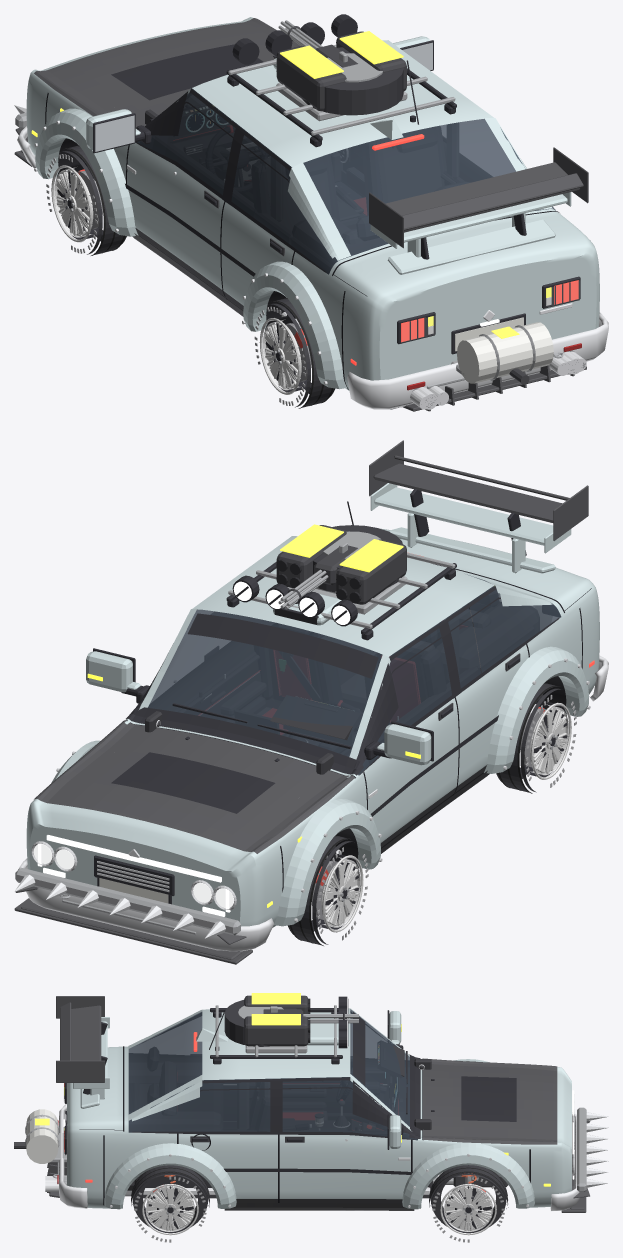
3 views of the same model, one above another, from view 1: azimuth 30°, elevation 25°; view 2: azimuth 150°, elevation 25°; view 3: azimuth 270°, elevation 25° (orthographic). The views are drawn at different scales.
Parts seen in each view (by area): view 1: BODY, PART_flares_widebody, PART_hood_carbon, PART_spoiler_gt, PART_roof_rack, MESH_DRIVER_WINDOW, PART_weapon_rockets, PART_weapon_oil, PART_hood_vent, PART_spoiler_lip, WHEEL_FL, PART_spoiler_wing (+9 smaller); view 2: BODY, PART_hood_carbon, PART_flares_widebody, PART_spoiler_gt, PART_weapon_rockets, MESH_DRIVER_WINDOW, PART_roof_rack, PART_hood_vent, PART_spoiler_wing, PART_weapon_spikes, WHEEL_RL, WHEEL_FL (+8 smaller); view 3: BODY, PART_hood_carbon, PART_flares_widebody, PART_spoiler_gt, PART_weapon_rockets, PART_roof_rack, PART_hood_vent, WHEEL_FR, WHEEL_RR, PART_weapon_oil, PART_weapon_spikes, PART_skirt_aero (+11 smaller).
Boxes of the visible parts, bbox=[...] form: BODY: bbox=[17, 17, 608, 409]; PART_flares_widebody: bbox=[34, 108, 347, 389]; PART_hood_carbon: bbox=[34, 18, 299, 128]; PART_spoiler_gt: bbox=[369, 147, 588, 259]; PART_roof_rack: bbox=[226, 14, 456, 147]; MESH_DRIVER_WINDOW: bbox=[137, 88, 266, 217]; PART_weapon_rockets: bbox=[276, 31, 407, 121]; PART_weapon_oil: bbox=[451, 322, 553, 384]; PART_hood_vent: bbox=[111, 44, 263, 100]; PART_spoiler_lip: bbox=[387, 219, 555, 274]; WHEEL_FL: bbox=[46, 145, 126, 255]; PART_spoiler_wing: bbox=[370, 192, 571, 257]; BODY: bbox=[17, 501, 608, 951]; PART_hood_carbon: bbox=[34, 720, 354, 853]; PART_flares_widebody: bbox=[51, 646, 590, 926]; PART_spoiler_gt: bbox=[369, 440, 588, 555]; PART_weapon_rockets: bbox=[276, 524, 407, 614]; MESH_DRIVER_WINDOW: bbox=[358, 604, 481, 775]; PART_roof_rack: bbox=[226, 525, 456, 640]; PART_hood_vent: bbox=[111, 752, 275, 813]; PART_spoiler_wing: bbox=[370, 483, 571, 573]; PART_weapon_spikes: bbox=[14, 868, 240, 938]; WHEEL_RL: bbox=[496, 683, 576, 793]; WHEEL_FL: bbox=[288, 835, 368, 945]; BODY: bbox=[52, 1008, 579, 1211]; PART_hood_carbon: bbox=[423, 1058, 557, 1144]; PART_flares_widebody: bbox=[104, 1059, 534, 1209]; PART_spoiler_gt: bbox=[56, 996, 107, 1094]; PART_weapon_rockets: bbox=[244, 993, 310, 1053]; PART_roof_rack: bbox=[210, 996, 348, 1064]; PART_hood_vent: bbox=[461, 1076, 516, 1121]; WHEEL_FR: bbox=[429, 1165, 508, 1242]; WHEEL_RR: bbox=[131, 1165, 209, 1242]; PART_weapon_oil: bbox=[14, 1109, 66, 1163]; PART_weapon_spikes: bbox=[577, 1107, 608, 1192]; PART_skirt_aero: bbox=[224, 1203, 414, 1210].
Size of the model in its own units: 2.29 by 1.78 by 4.83.
